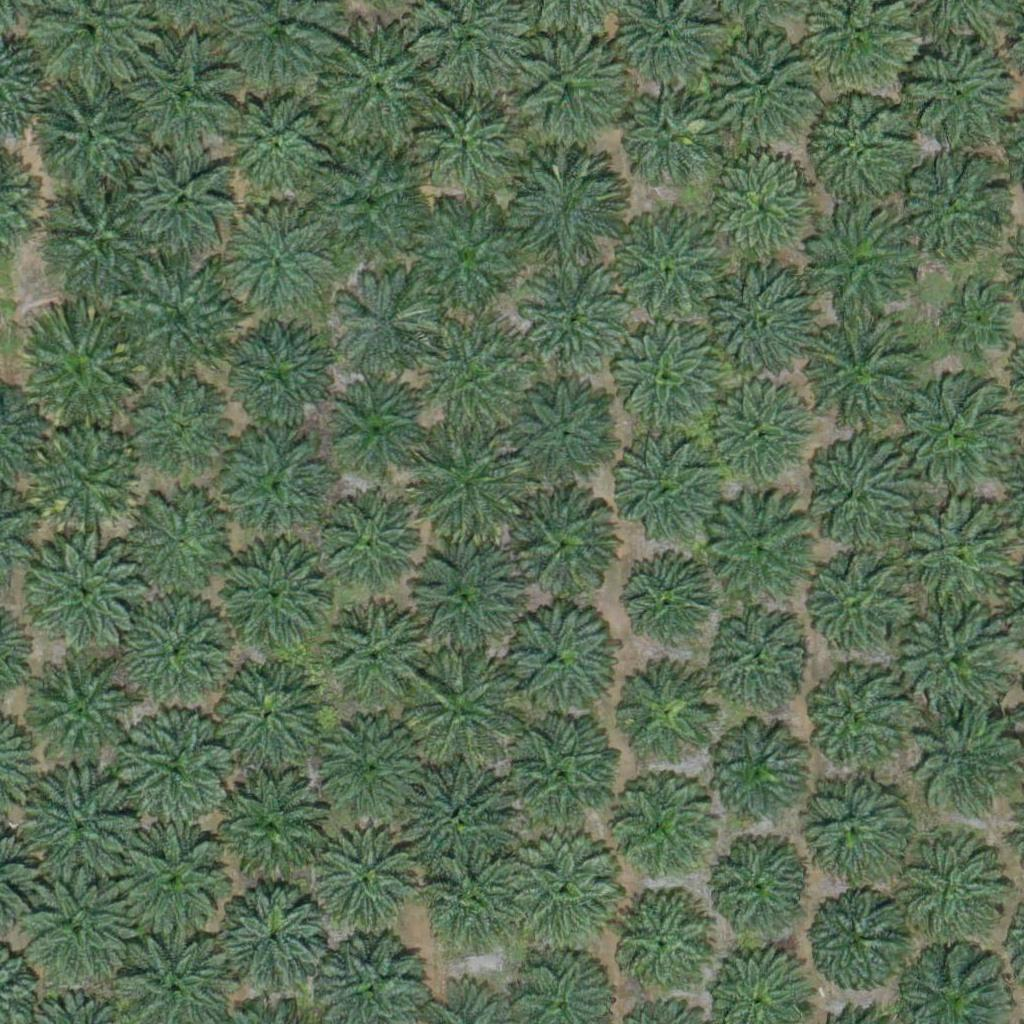Kelapa_Sawit: (322, 25, 447, 151), (496, 833, 621, 959), (17, 313, 142, 438), (610, 323, 723, 437), (504, 378, 617, 492), (797, 767, 910, 881), (127, 145, 240, 258), (124, 41, 237, 154), (223, 325, 336, 438), (508, 154, 621, 267), (511, 34, 624, 147), (613, 213, 726, 326), (901, 377, 1014, 490), (702, 493, 815, 606), (408, 647, 521, 760), (400, 760, 513, 873), (309, 825, 422, 938), (213, 536, 326, 649), (31, 532, 144, 645), (28, 659, 141, 772), (22, 772, 135, 885), (21, 880, 134, 993), (115, 823, 228, 936), (313, 154, 425, 268), (408, 205, 520, 319), (522, 264, 634, 378), (504, 486, 616, 600), (499, 599, 611, 713), (413, 425, 525, 539), (35, 83, 147, 196), (42, 181, 154, 294), (124, 268, 236, 381), (412, 325, 524, 438), (700, 269, 812, 382), (706, 152, 818, 265), (707, 38, 819, 151), (805, 208, 917, 321), (800, 322, 912, 435), (906, 502, 1018, 615), (902, 604, 1014, 717), (899, 830, 1011, 943), (801, 433, 913, 546), (799, 543, 911, 656), (609, 893, 721, 1006), (606, 773, 718, 886), (504, 711, 616, 824), (406, 544, 518, 657), (209, 657, 321, 770), (216, 775, 328, 888), (122, 484, 234, 597), (123, 594, 235, 707), (121, 710, 233, 823), (219, 888, 331, 1001), (231, 210, 331, 311), (325, 381, 425, 482), (618, 79, 718, 180), (811, 97, 911, 198), (903, 155, 1003, 256), (909, 42, 1009, 143), (911, 711, 1011, 812), (807, 666, 907, 767), (618, 440, 718, 541), (318, 492, 418, 593), (322, 599, 422, 700), (320, 716, 420, 817), (226, 434, 326, 535), (129, 377, 229, 478), (35, 427, 135, 528), (224, 93, 324, 193), (331, 278, 431, 378), (417, 89, 517, 189), (713, 384, 813, 484), (818, 888, 918, 988), (713, 612, 813, 712), (707, 721, 807, 821), (708, 840, 808, 940), (622, 554, 722, 654), (623, 664, 723, 764), (940, 282, 1015, 357), (429, 864, 504, 939)
